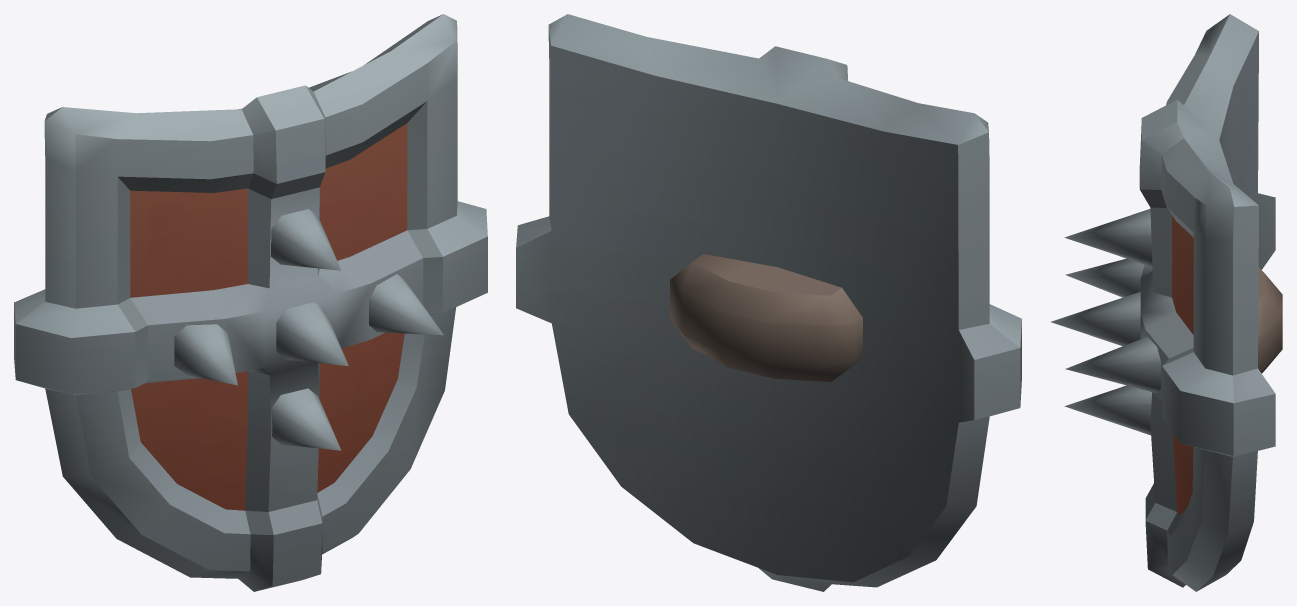
Rendered from kaykit-shield-spikes.glb.
The picture shows the model from 3 angles, left to right: view 1: azimuth 30°, elevation 25°; view 2: azimuth 150°, elevation 25°; view 3: azimuth 270°, elevation 25°; orthographic projection. The views are drawn at different scales.
Visible parts, largest first — view 1: shield_spikes; view 2: shield_spikes; view 3: shield_spikes.
Boxes of the visible parts, x1,y1,x2,y2 form: shield_spikes: (14, 14, 487, 591); shield_spikes: (516, 14, 1021, 591); shield_spikes: (1051, 14, 1282, 591).
Size of the model in its own units: 1.01 by 1.04 by 0.4598.
Materials: 1 (1 with a texture image).
